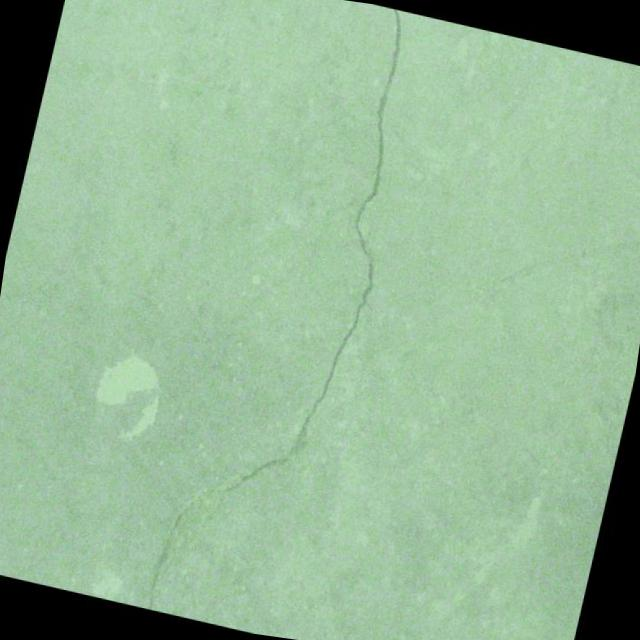crack: (144, 0, 441, 640)
